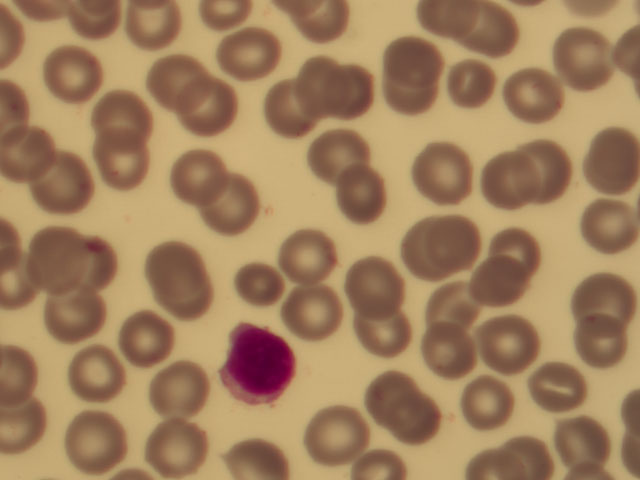RBC: (41, 36, 108, 106), (85, 74, 152, 144), (117, 157, 183, 221), (86, 128, 152, 192), (28, 149, 94, 213), (29, 228, 95, 292), (67, 236, 133, 300), (41, 289, 107, 353), (108, 301, 174, 365), (65, 342, 131, 406), (65, 406, 131, 470), (150, 359, 216, 423), (141, 416, 207, 480), (307, 398, 373, 462), (356, 358, 422, 422), (379, 386, 445, 450), (343, 302, 409, 366), (342, 252, 408, 316), (286, 278, 352, 342), (236, 255, 302, 319), (279, 231, 345, 295), (156, 259, 222, 323), (144, 235, 210, 299), (203, 174, 269, 238), (162, 140, 228, 204), (172, 86, 238, 150), (156, 49, 222, 113), (219, 29, 285, 93), (258, 73, 324, 137), (294, 41, 360, 105), (325, 65, 391, 129), (306, 120, 372, 184), (332, 161, 398, 225), (406, 139, 472, 203), (380, 66, 446, 130), (377, 21, 443, 85), (435, 47, 501, 111), (496, 59, 562, 123), (549, 31, 615, 95), (463, 3, 529, 67), (503, 139, 569, 203), (574, 125, 640, 189), (475, 146, 541, 210), (429, 207, 495, 271), (394, 222, 460, 286), (483, 213, 549, 277), (466, 250, 532, 314), (434, 269, 500, 333), (418, 316, 484, 380), (472, 314, 538, 378), (454, 364, 520, 428), (534, 350, 600, 414), (568, 314, 634, 378), (571, 263, 637, 327), (574, 190, 640, 254), (557, 406, 623, 470), (228, 416, 294, 480), (1, 125, 66, 189)
WBC: (214, 316, 303, 413)
